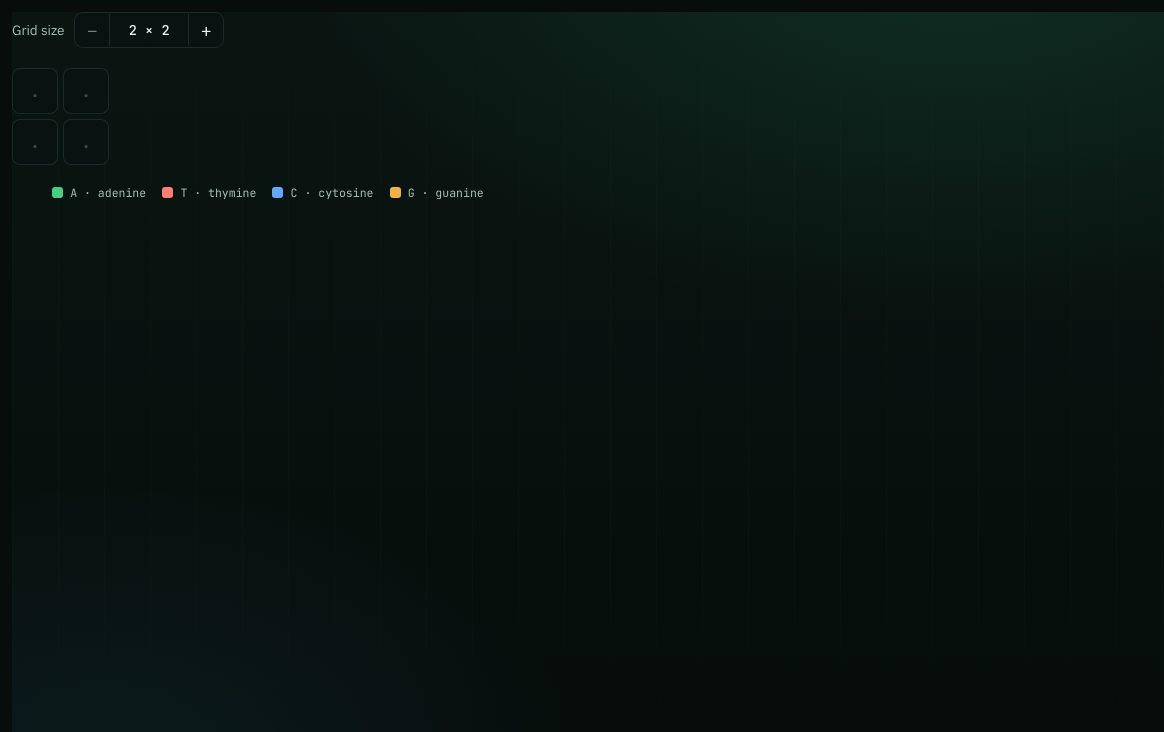
Test: GridEditor › accepts A/T/C/G and uppercases input
Click the field named "Row 1, column 1" at (35, 91), box [12,68,58,114]
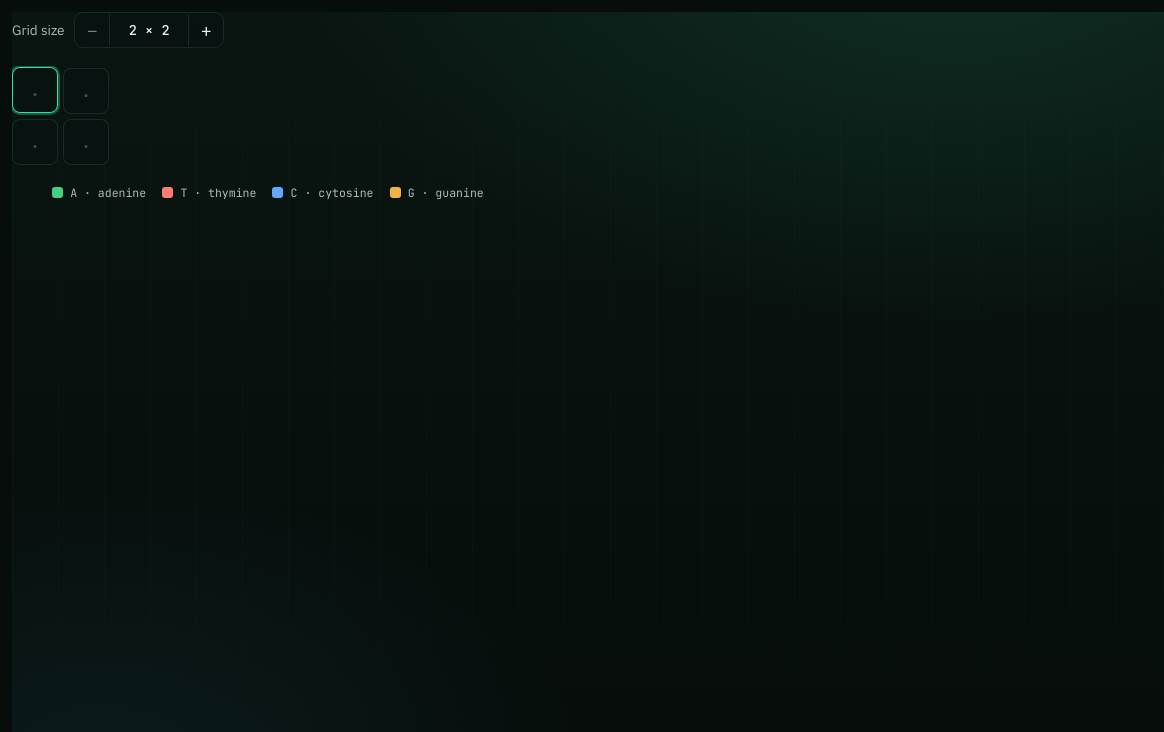
Type keys "a"
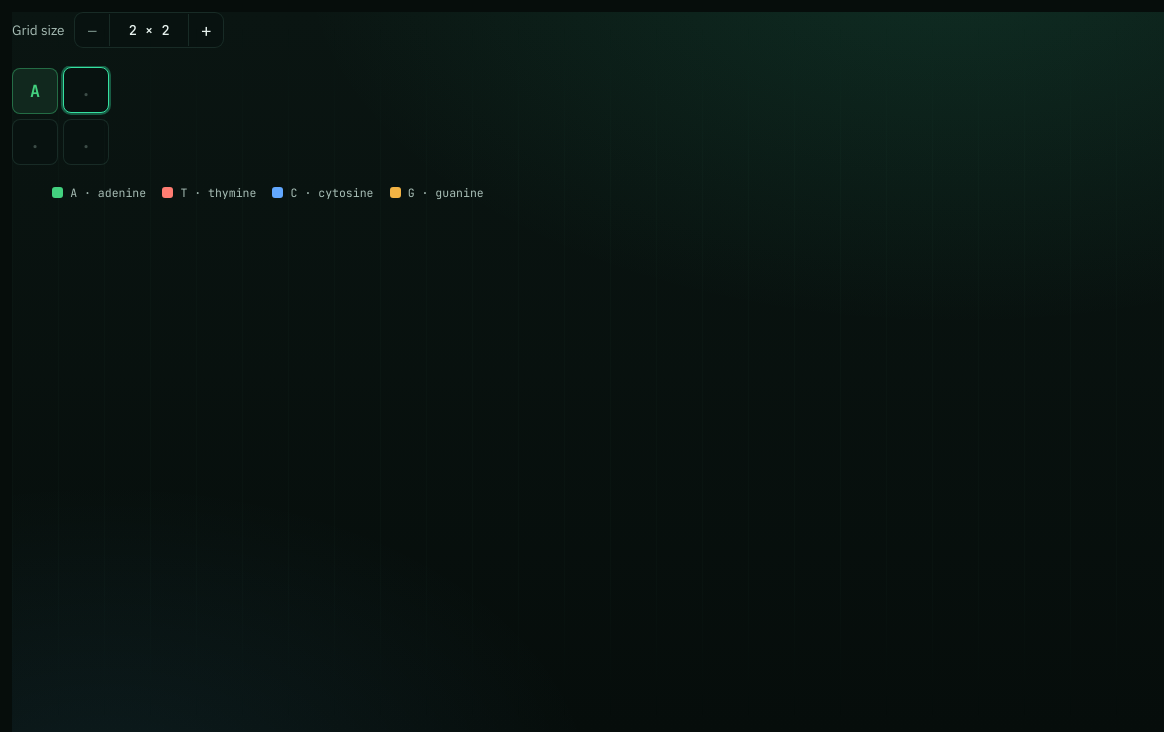
Check: the field named "Row 1, column 1" holds "A", box [12,68,58,114]
